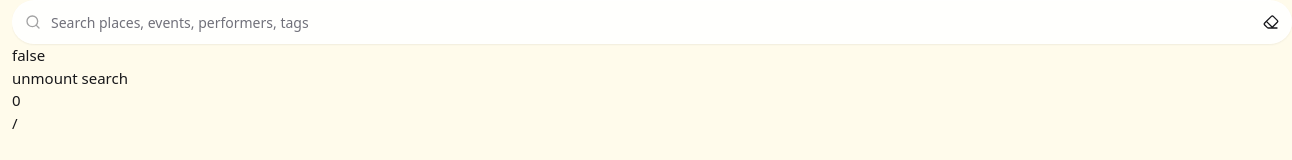
Scenario: SearchBar › says so when the search fails and highlights nothing
Type "techno" into the dropdown labelled "Search".
click(652, 22); type("techno")  # box left=49, top=10, right=1255, bottom=34
Wait 300 ms
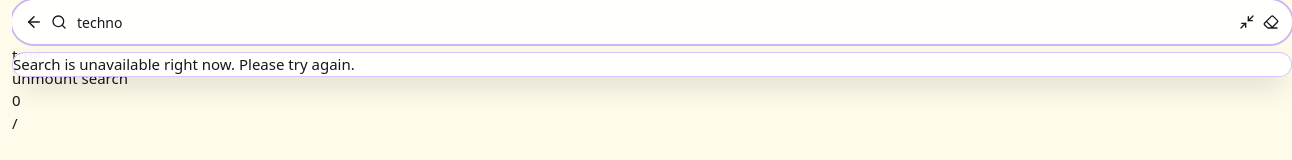
Expected: the list named "Search results" shows "Search is unavailable right now.", left=13, top=54, right=355, bottom=74
